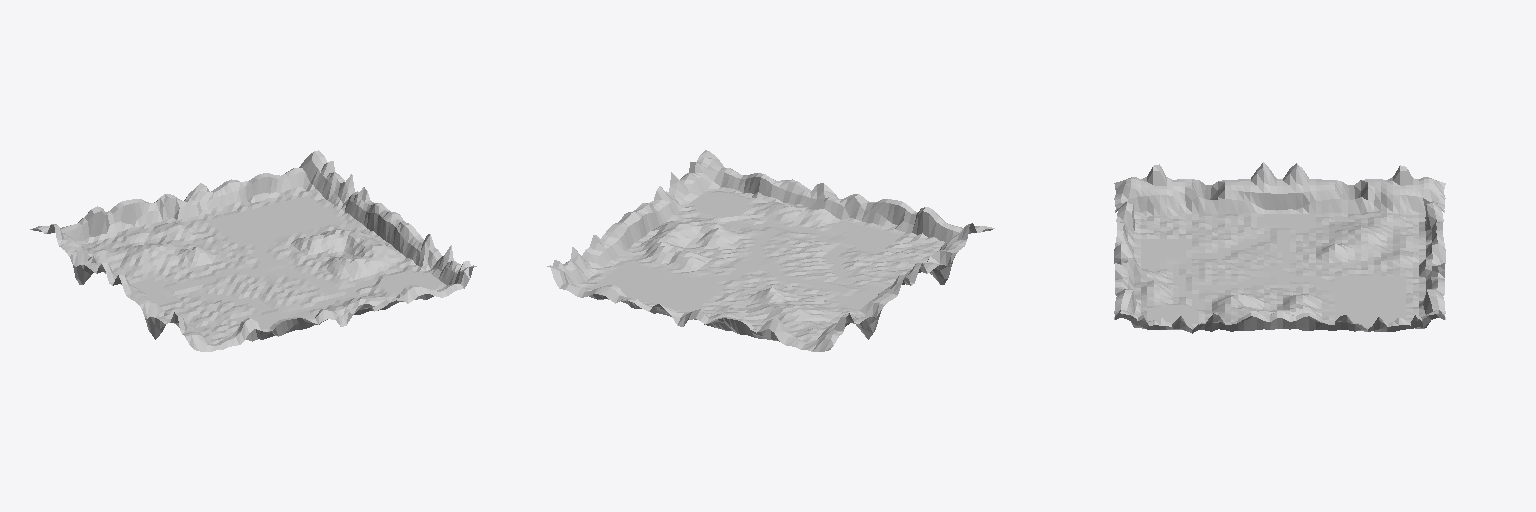
The model's file is mapa.obj.
The picture shows the model from 3 angles: view 1: azimuth 30°, elevation 25°; view 2: azimuth 150°, elevation 25°; view 3: azimuth 270°, elevation 25°; orthographic projection.
Parts seen in each view (by area): view 1: Terreno; view 2: Terreno; view 3: Terreno.
Part boxes in pixels (x1,y1,x2,y2): Terreno: (30, 150, 476, 351); Terreno: (547, 150, 994, 351); Terreno: (1114, 162, 1445, 333).
Size of the model in its own units: 306 by 45.69 by 301.